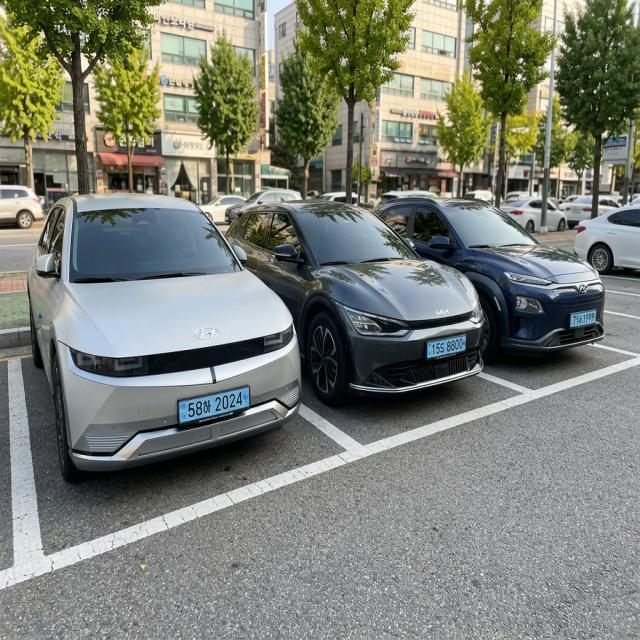car: (173, 379, 256, 430), (421, 329, 473, 362), (564, 304, 602, 333)
carev: (242, 387, 251, 411), (179, 400, 187, 426), (428, 340, 433, 364), (462, 335, 469, 352), (570, 314, 573, 327), (594, 311, 597, 323)
